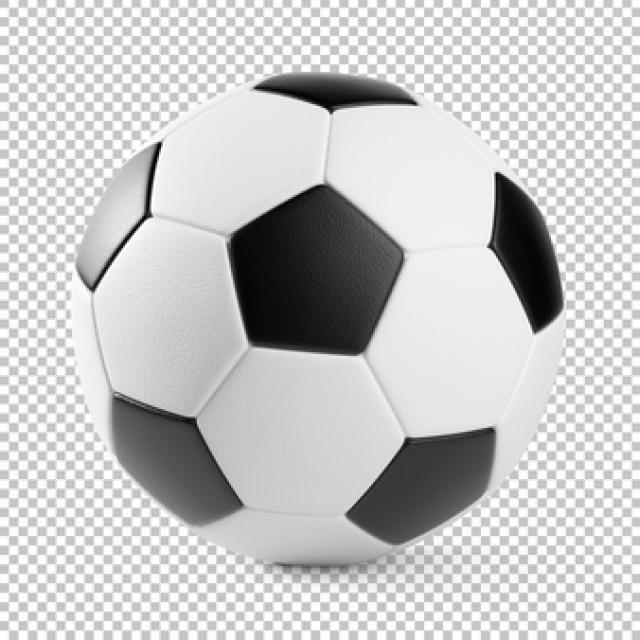soccer ball: (72, 74, 564, 566)
